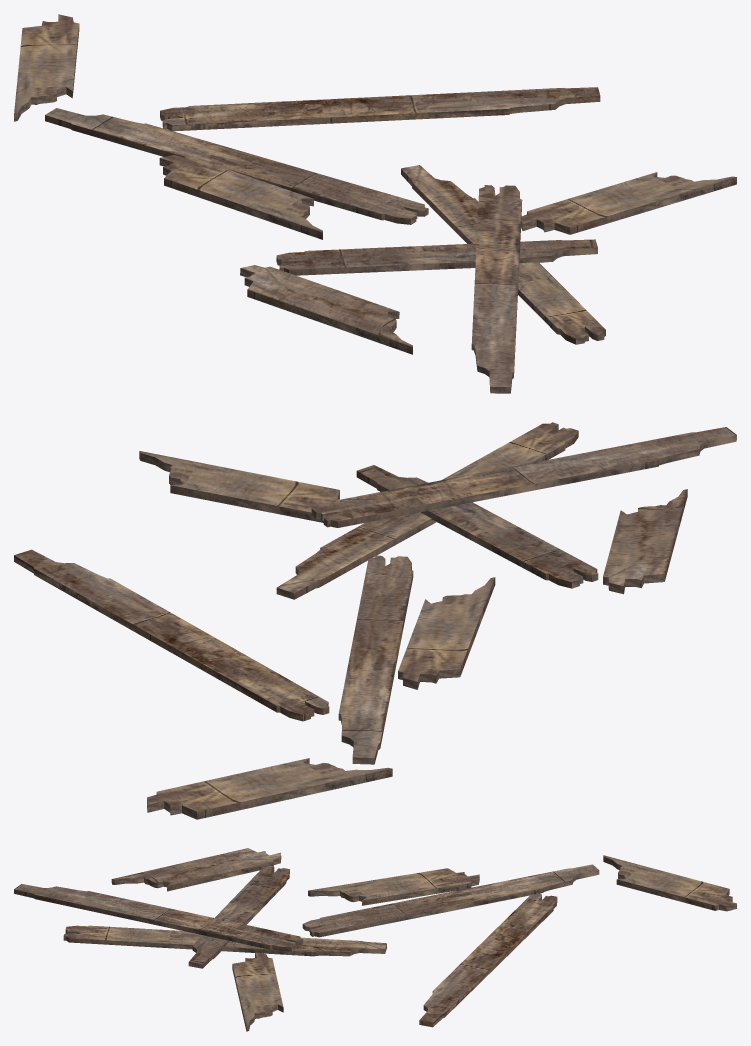
File: PlanksScattered.fbx
3 views of the same model, one above another, from view 1: azimuth 30°, elevation 25°; view 2: azimuth 150°, elevation 25°; view 3: azimuth 270°, elevation 25° (orthographic). The views are drawn at different scales.
Visible parts, largest first — view 1: SM_COM_PlanksScattered_01.mo; view 2: SM_COM_PlanksScattered_01.mo; view 3: SM_COM_PlanksScattered_01.mo.
Boxes of the visible parts, x1,y1,x2,y2 form: SM_COM_PlanksScattered_01.mo: (14, 14, 736, 393); SM_COM_PlanksScattered_01.mo: (14, 422, 736, 819); SM_COM_PlanksScattered_01.mo: (14, 848, 736, 1031).
Size of the model in its own units: 201 by 9.78 by 353.
